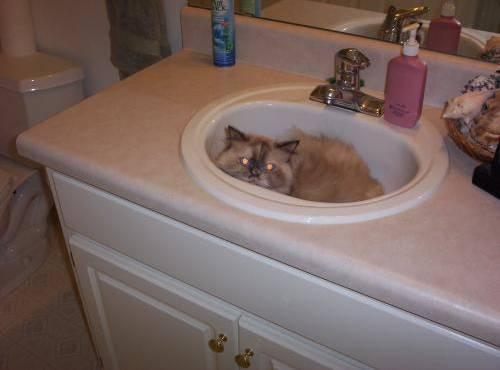cat: (215, 126, 383, 201)
